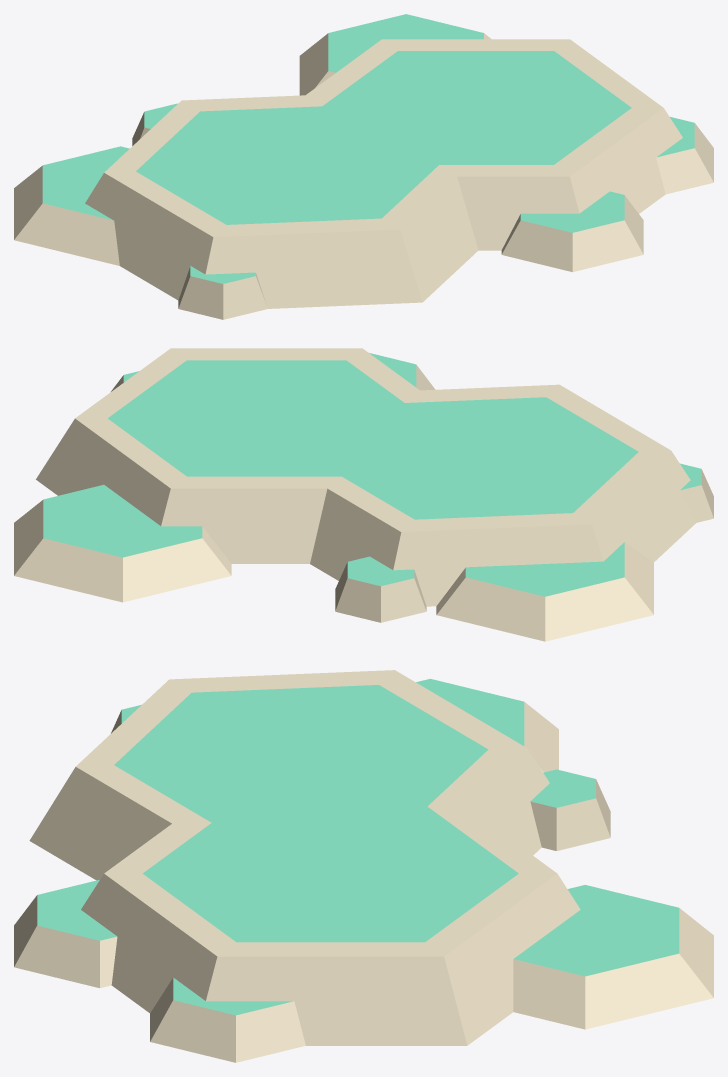
3 renders of one model, top to bottom at view 1: azimuth 30°, elevation 25°; view 2: azimuth 150°, elevation 25°; view 3: azimuth 270°, elevation 25°, orthographic. The views are drawn at different scales.
Parts seen in each view (by area): view 1: rockFlatGrass; view 2: rockFlatGrass; view 3: rockFlatGrass.
Boxes of the visible parts, bbox=[...] form: rockFlatGrass: bbox=[14, 14, 713, 319]; rockFlatGrass: bbox=[14, 348, 713, 641]; rockFlatGrass: bbox=[14, 670, 713, 1062].
Size of the model in its own units: 1.79 by 0.165 by 1.45.
